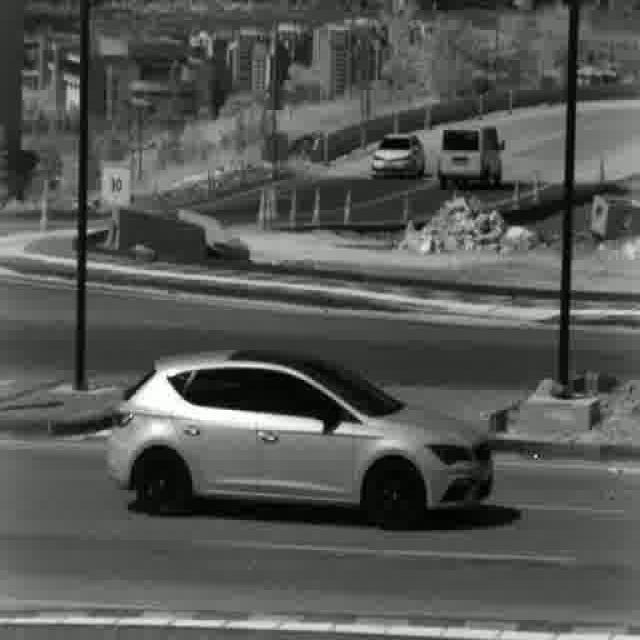Car: (107, 348, 497, 524), (439, 128, 504, 188), (372, 134, 426, 177)
